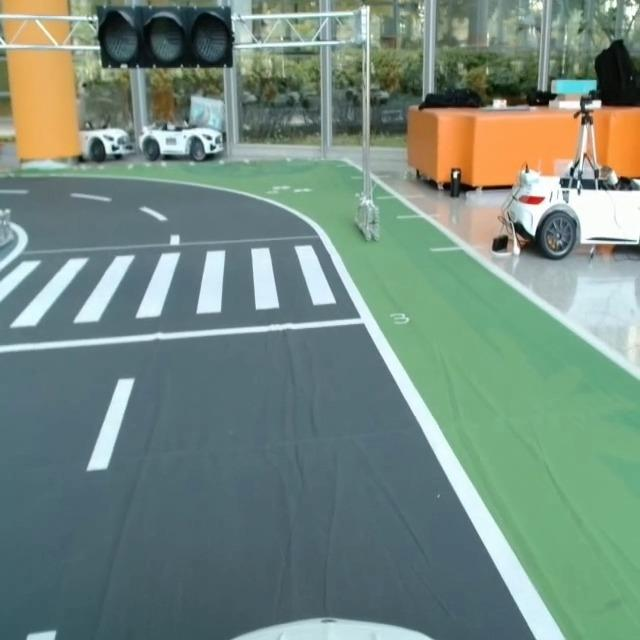traffic-light: (95, 0, 237, 70)
